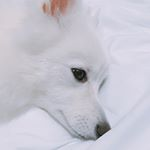puppy: (2, 1, 119, 142)
